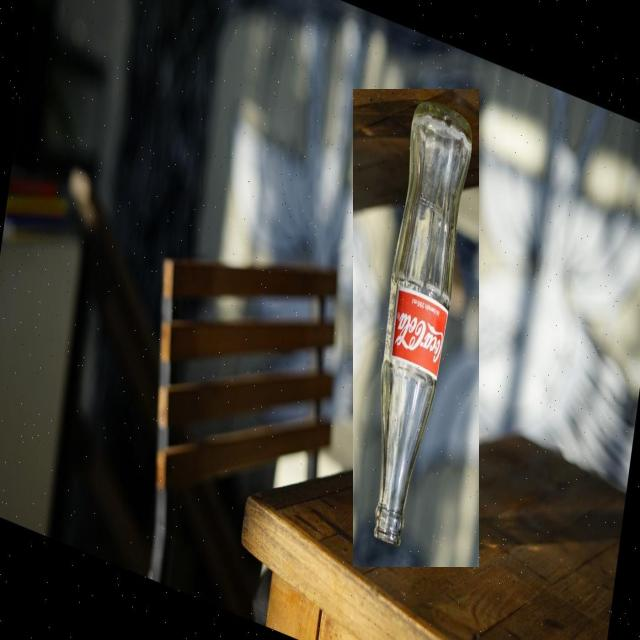coca-cola: (354, 89, 479, 567)
